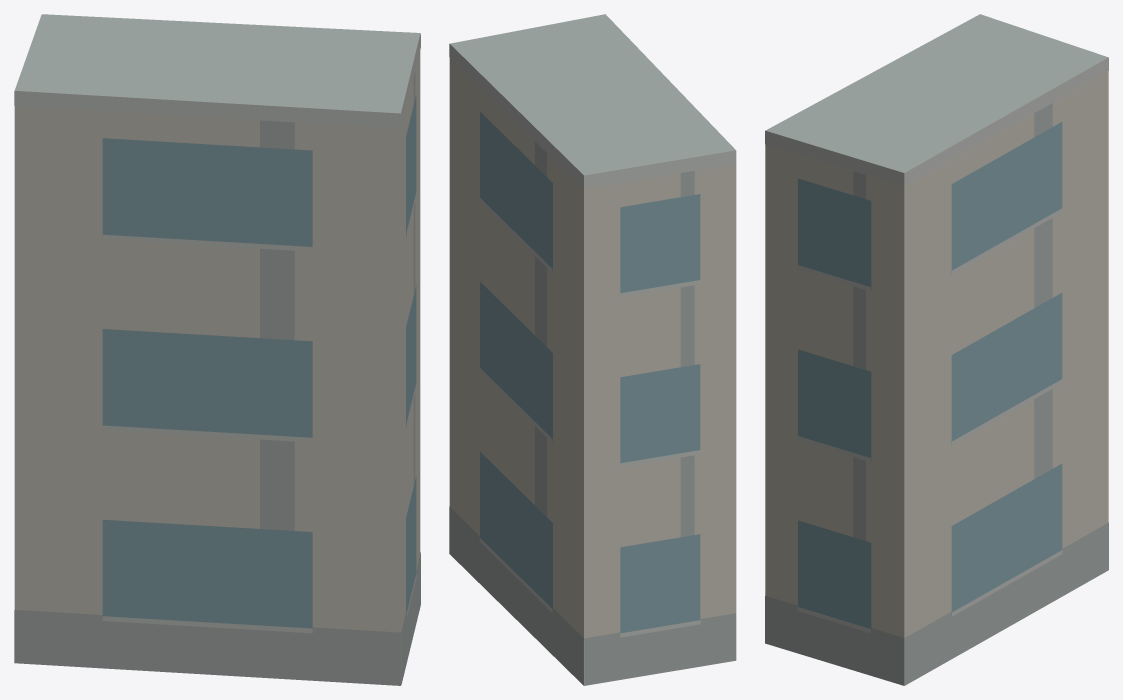
File: survey-upis-32738440.glb
3 renders of one model, left to right at view 1: azimuth 30°, elevation 25°; view 2: azimuth 150°, elevation 25°; view 3: azimuth 270°, elevation 25°, orthographic. The views are drawn at different scales.
Parts seen in each view (by area): view 1: survey-upis-32738440.tmp; view 2: survey-upis-32738440.tmp; view 3: survey-upis-32738440.tmp.
Boxes of the visible parts, bbox=[...] form: survey-upis-32738440.tmp: bbox=[14, 14, 420, 685]; survey-upis-32738440.tmp: bbox=[449, 14, 736, 685]; survey-upis-32738440.tmp: bbox=[765, 14, 1108, 685].
Bounding box in the file's own units: 6.09 × 9.15 × 5.56.
